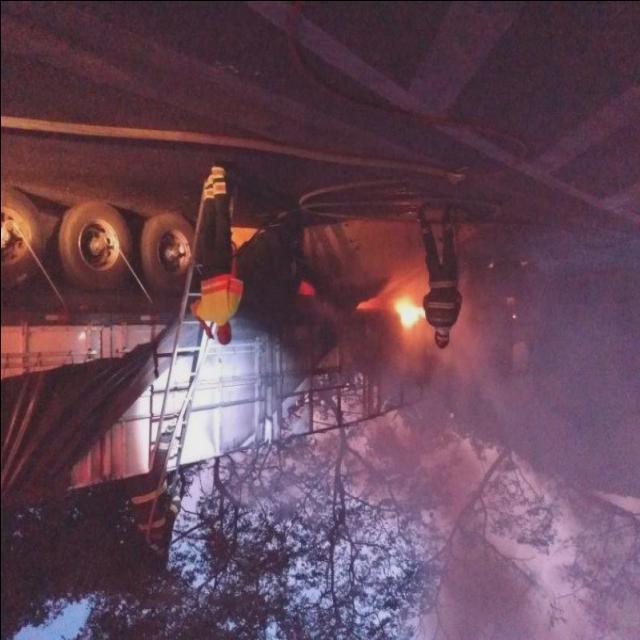Fire: (395, 296, 423, 330)
